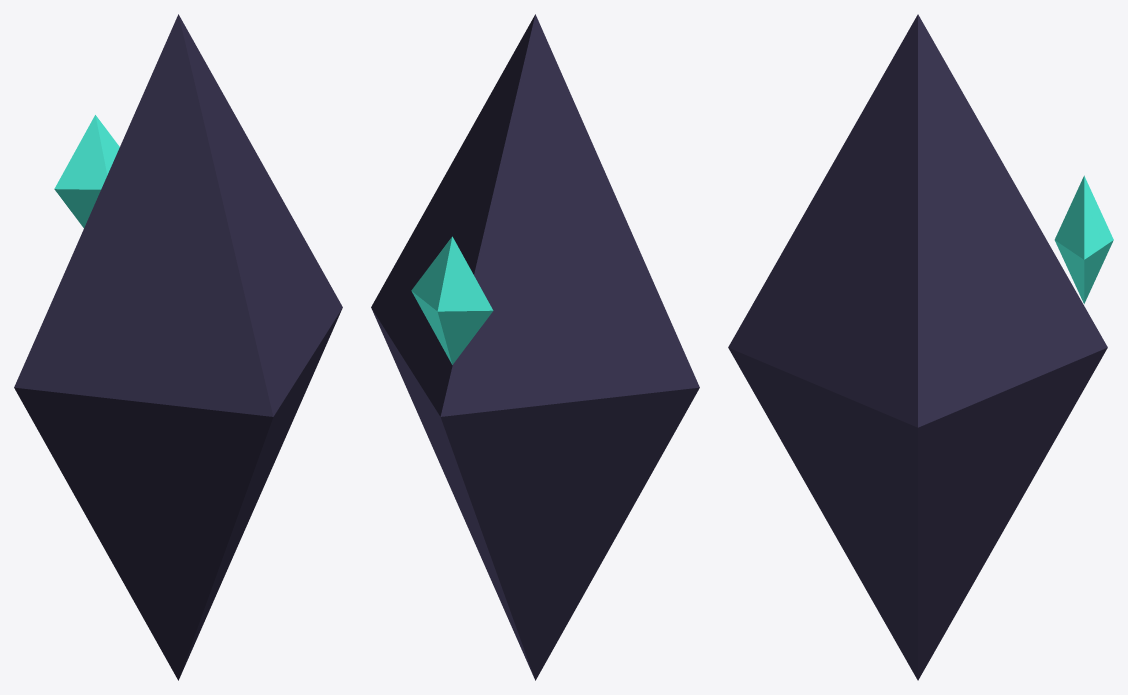
File: enemy_phantom.obj
3 renders of one model, left to right at view 1: azimuth 30°, elevation 25°; view 2: azimuth 150°, elevation 25°; view 3: azimuth 270°, elevation 25°, orthographic.
Parts seen in each view (by area): view 1: body, eye; view 2: body, eye; view 3: body, eye.
Part boxes in pixels (<box>): body: <box>14,14,342,680</box>; eye: <box>54,115,119,227</box>; body: <box>371,14,699,680</box>; eye: <box>411,236,493,364</box>; body: <box>728,14,1107,680</box>; eye: <box>1054,175,1113,303</box>.
Bounding box in the file's own units: 0.32 × 0.62 × 0.325.
